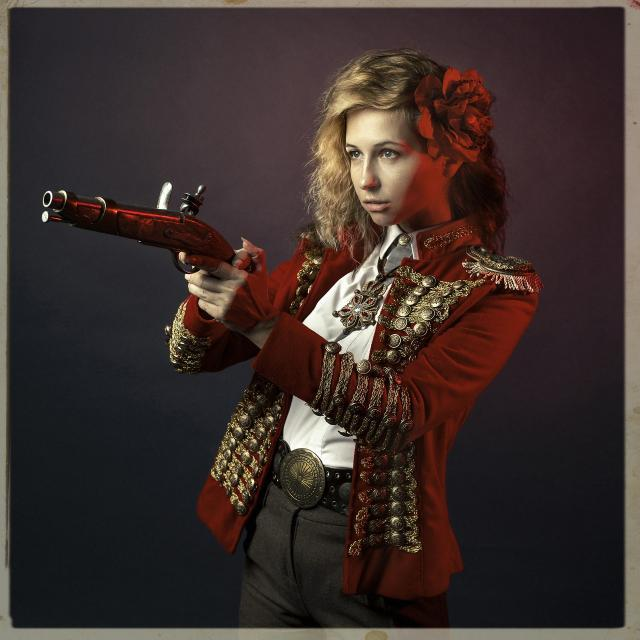Gun: (41, 181, 235, 271)
